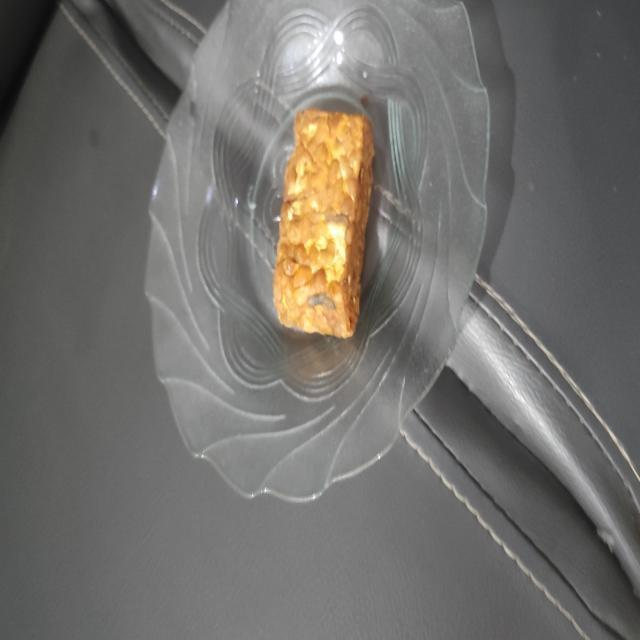tempe_goreng: (274, 110, 374, 338)
